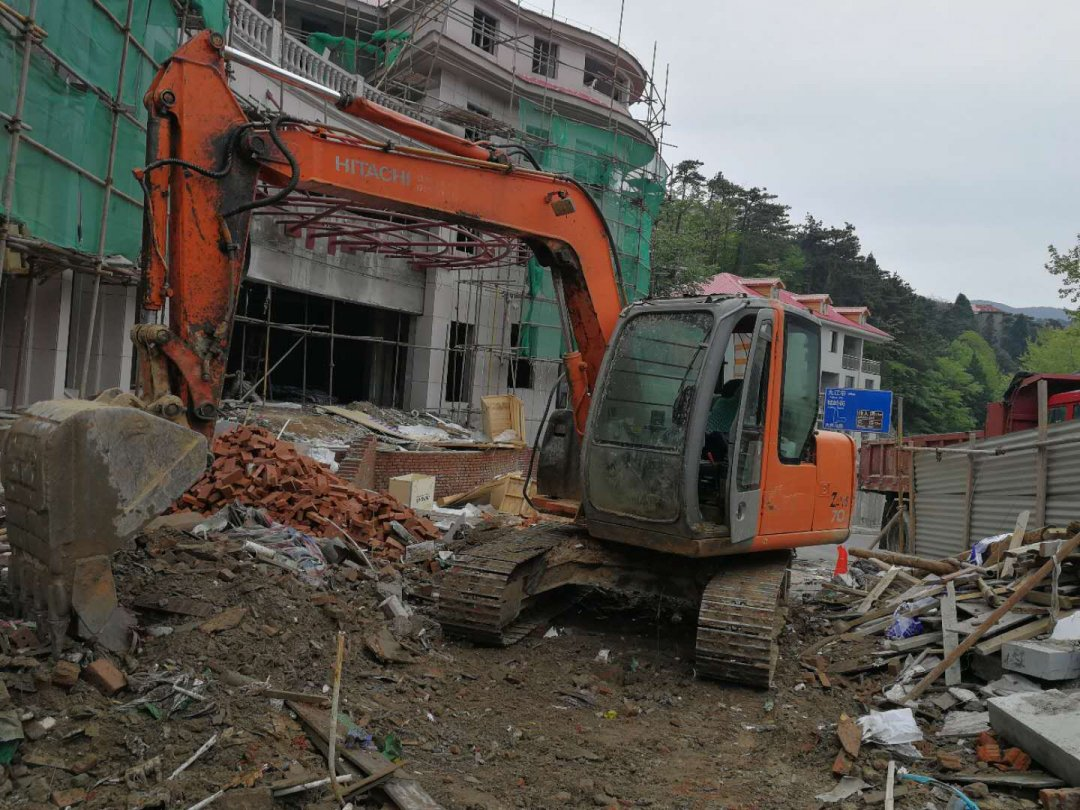excavator: (21, 22, 851, 699)
